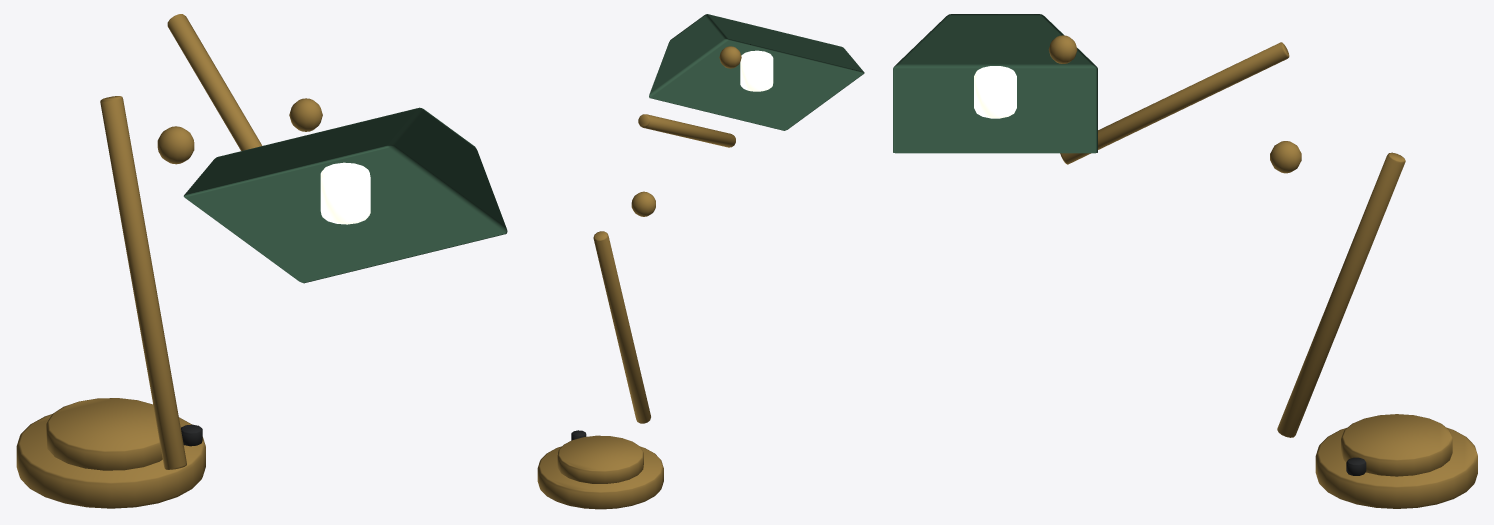
The model's file is asset_083_desk_lamp.glb.
3 views of the same model, side by side, from view 1: azimuth 30°, elevation 25°; view 2: azimuth 150°, elevation 25°; view 3: azimuth 270°, elevation 25° (orthographic). The views are drawn at different scales.
Parts seen in each view (by area): view 1: MESH_LampShadeWall, MESH_LampArmLower, MESH_LampBase, MESH_LampBaseCrown, MESH_LampArmUpper, MESH_LampBulb, MESH_LampElbow, MESH_LampShadeJoint; view 2: MESH_LampShadeWall, MESH_LampBase, MESH_LampBaseCrown, MESH_LampArmLower, MESH_LampArmUpper, MESH_LampBulb, MESH_LampElbow, MESH_LampShadeJoint; view 3: MESH_LampShadeWall, MESH_LampBase, MESH_LampArmLower, MESH_LampBaseCrown, MESH_LampArmUpper, MESH_LampBulb, MESH_LampElbow, MESH_LampShadeJoint.
Part boxes in pixels (<box>): MESH_LampShadeWall: <box>183,107,507,283</box>; MESH_LampArmLower: <box>100,96,186,469</box>; MESH_LampBase: <box>16,414,205,508</box>; MESH_LampBaseCrown: <box>46,398,162,470</box>; MESH_LampArmUpper: <box>167,14,262,150</box>; MESH_LampBulb: <box>320,162,370,224</box>; MESH_LampElbow: <box>157,126,194,164</box>; MESH_LampShadeJoint: <box>289,98,322,131</box>; MESH_LampShadeWall: <box>649,14,864,130</box>; MESH_LampBase: <box>537,446,663,509</box>; MESH_LampBaseCrown: <box>557,435,643,483</box>; MESH_LampArmLower: <box>593,231,650,423</box>; MESH_LampArmUpper: <box>638,114,735,147</box>; MESH_LampBulb: <box>740,50,773,91</box>; MESH_LampElbow: <box>631,191,655,216</box>; MESH_LampShadeJoint: <box>719,46,741,68</box>; MESH_LampShadeWall: <box>893,14,1097,153</box>; MESH_LampBase: <box>1315,428,1477,508</box>; MESH_LampArmLower: <box>1277,152,1405,437</box>; MESH_LampBaseCrown: <box>1341,414,1452,476</box>; MESH_LampArmUpper: <box>1060,42,1289,164</box>; MESH_LampBulb: <box>974,66,1016,118</box>; MESH_LampElbow: <box>1270,141,1301,173</box>; MESH_LampShadeJoint: <box>1048,35,1077,63</box>.
Bounding box in the file's own units: 0.23 × 0.5377 × 0.6509.
